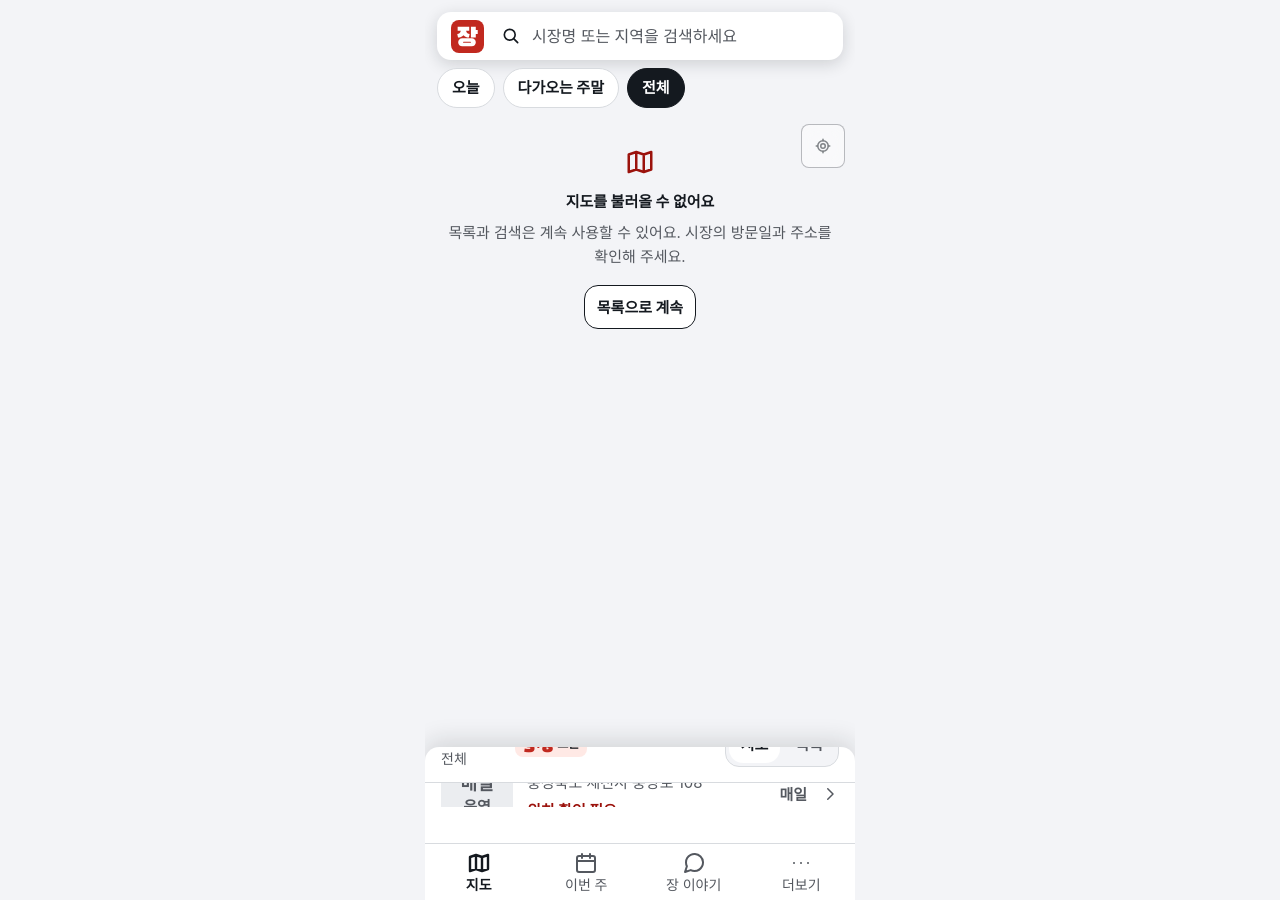
Test: MarketExplorer › shows daily markets and omits directions when coordinates are missing
(page scrolled)
Click the link "매일 운영 제천중앙시장 충청북도 제천시 풍양로 108 위치 확인 필요 매일 운영 일정 매일" at (640, 794), box [441, 726, 839, 863]
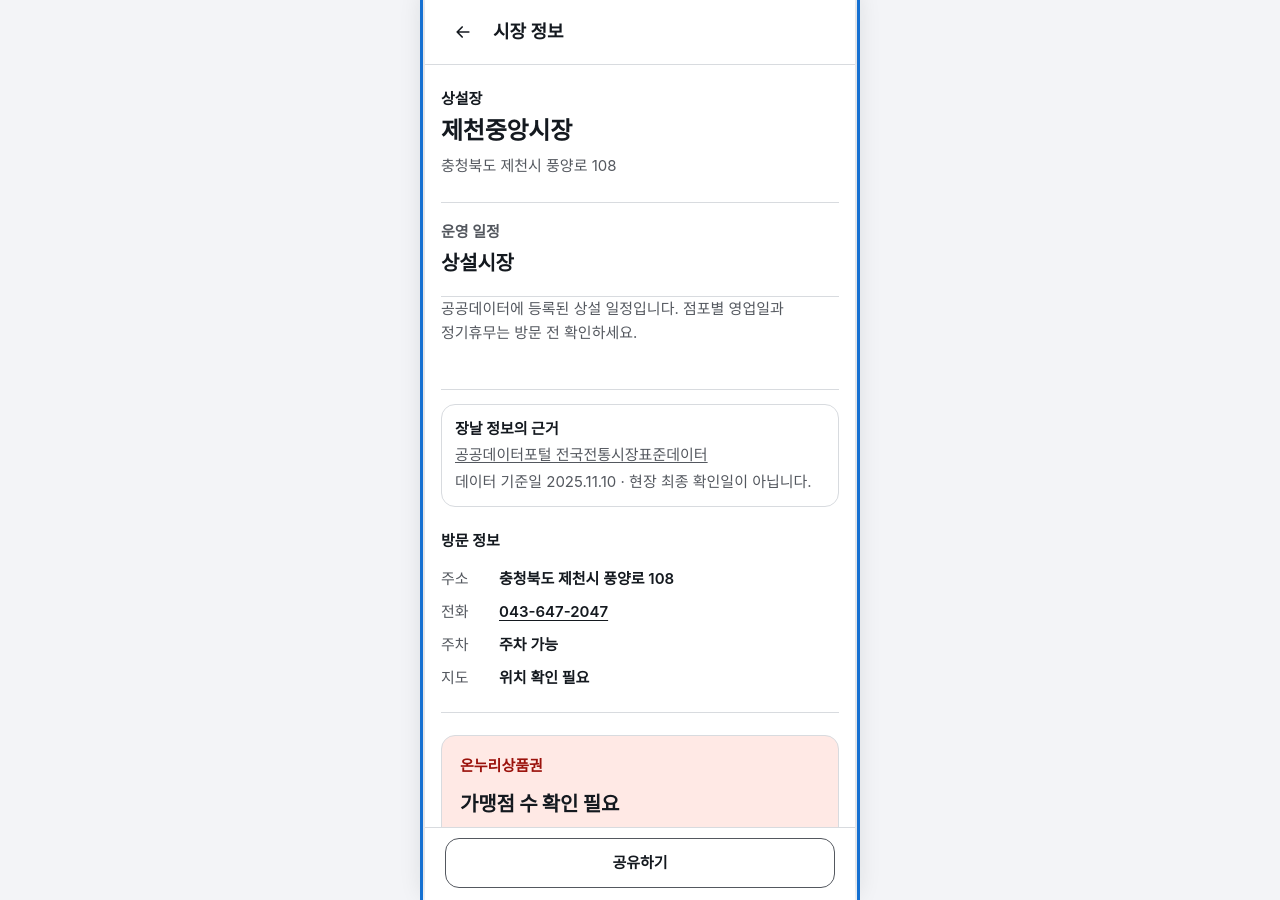
Expected: the text "위치 확인 필요" is shown 2 times, [527, 609, 617, 628]; [499, 668, 589, 687]
Now the text "상설시장" is shown, box [441, 248, 514, 279]
Now the text "공공데이터에 등록된 상설 일정입니다. 점포별 영업일과 정기휴무는 방문 전 확인하세요." is shown, box [441, 297, 839, 345]
